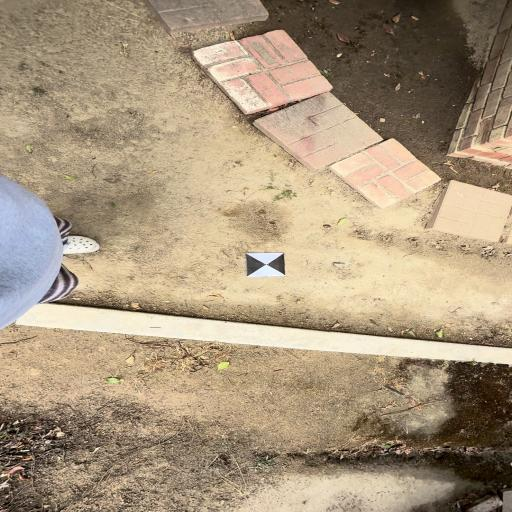target: (246, 253, 284, 276)
